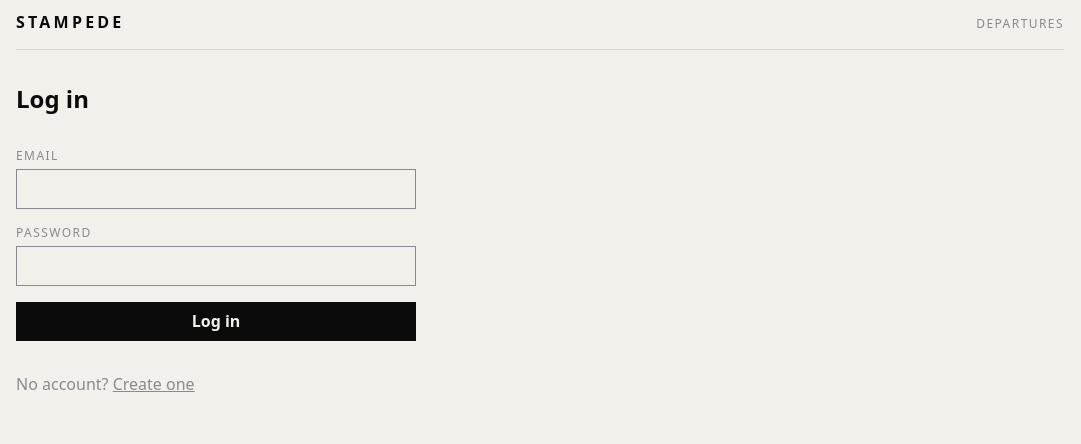
it: the stored hold and who is logged in › a failed login attempt keeps it (a mistyped password is no reason to lose seats)
The width and height of the screenshot is (1081, 444).
Type "fan@test.local" into the field labelled "Email" at (216, 189), box [16, 169, 416, 209]
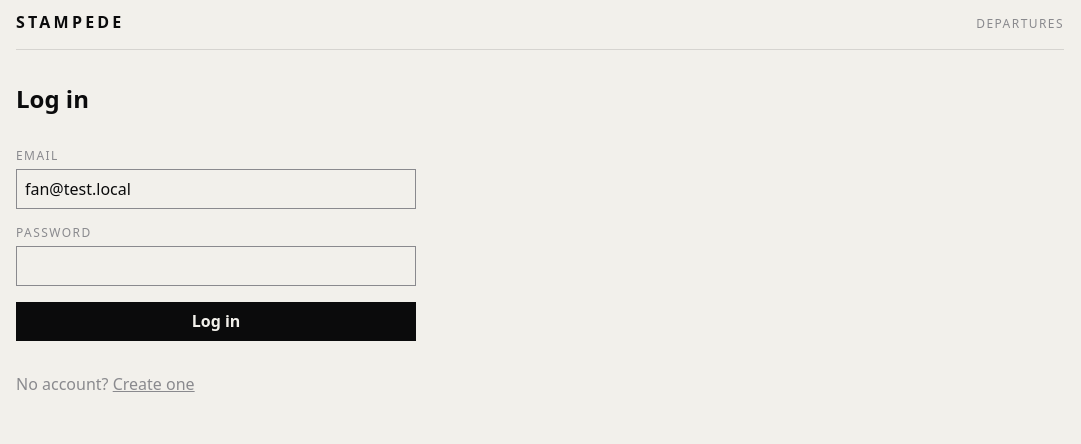
Type "correct-horse-battery" into the password field labelled "Password" at (216, 266), box [16, 246, 416, 286]
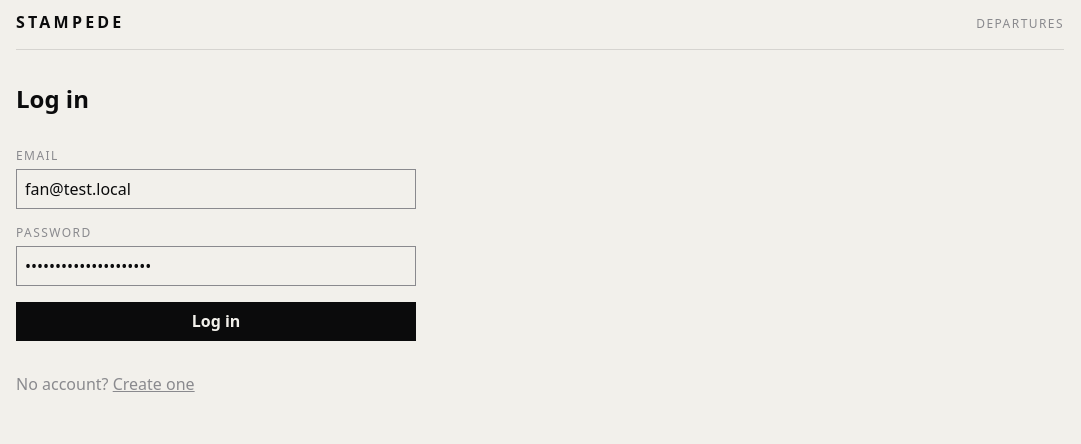
Click the button "Log in" at (216, 322), box [16, 302, 416, 341]
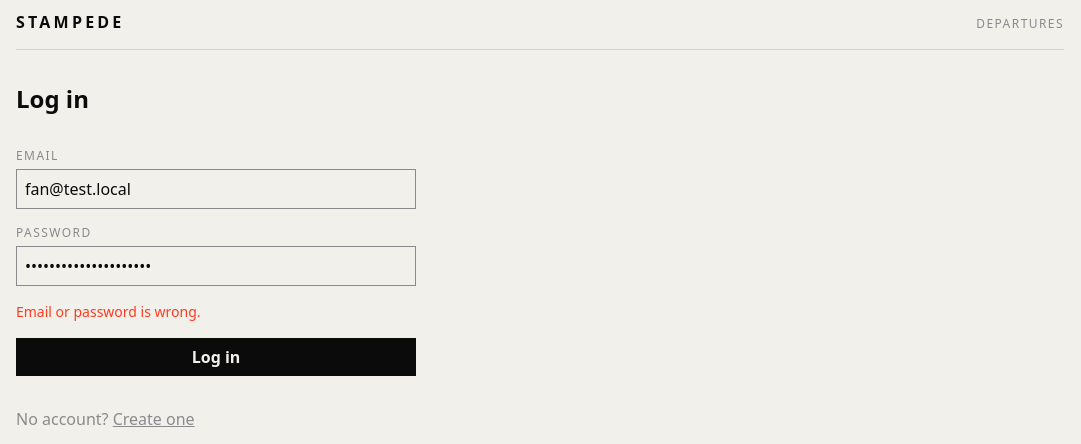
Expected: the message reads "Email or password is wrong.", [16, 302, 200, 321]
